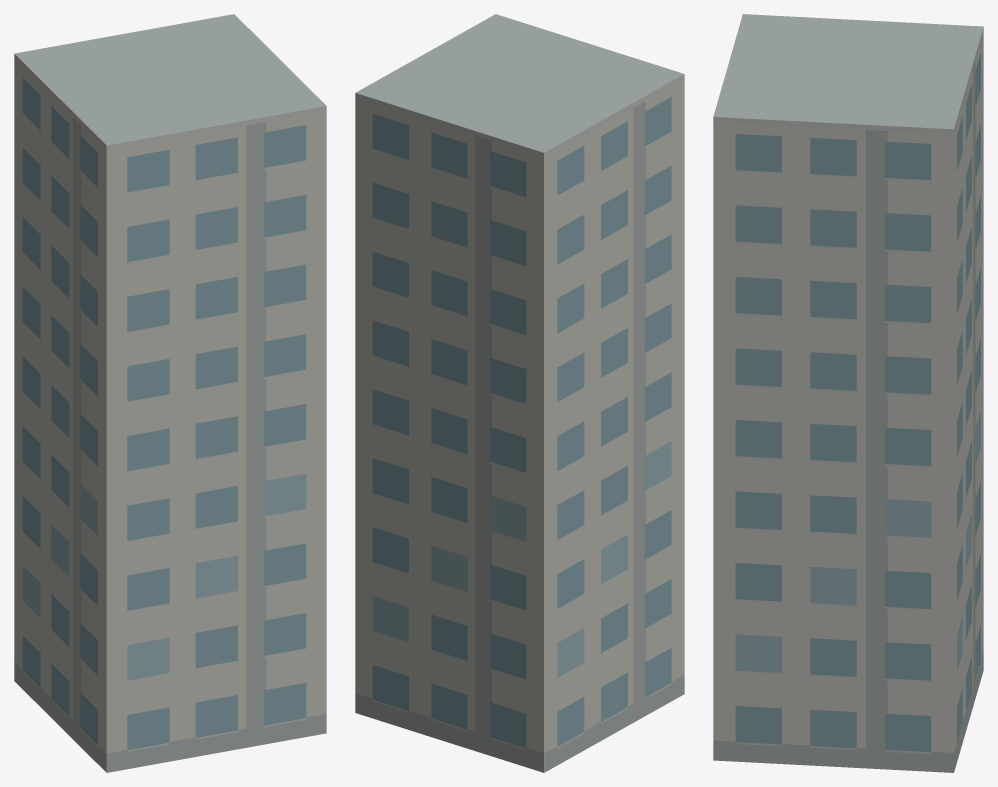
Rendered from residential-b4bc5a60-97f4-403d-b4a6-76668ba06481.glb.
3 renders of one model, left to right at view 1: azimuth 30°, elevation 25°; view 2: azimuth 150°, elevation 25°; view 3: azimuth 270°, elevation 25°, orthographic. The views are drawn at different scales.
Parts seen in each view (by area): view 1: residential-b4bc5a60-97f4-403d-b4a6-76668ba06481.tmp; view 2: residential-b4bc5a60-97f4-403d-b4a6-76668ba06481.tmp; view 3: residential-b4bc5a60-97f4-403d-b4a6-76668ba06481.tmp.
Boxes of the visible parts, x1,y1,x2,y2 form: residential-b4bc5a60-97f4-403d-b4a6-76668ba06481.tmp: (14, 14, 326, 772); residential-b4bc5a60-97f4-403d-b4a6-76668ba06481.tmp: (355, 14, 684, 772); residential-b4bc5a60-97f4-403d-b4a6-76668ba06481.tmp: (713, 14, 983, 772).
Bounding box in the file's own units: 11.54 × 30 × 11.43.
